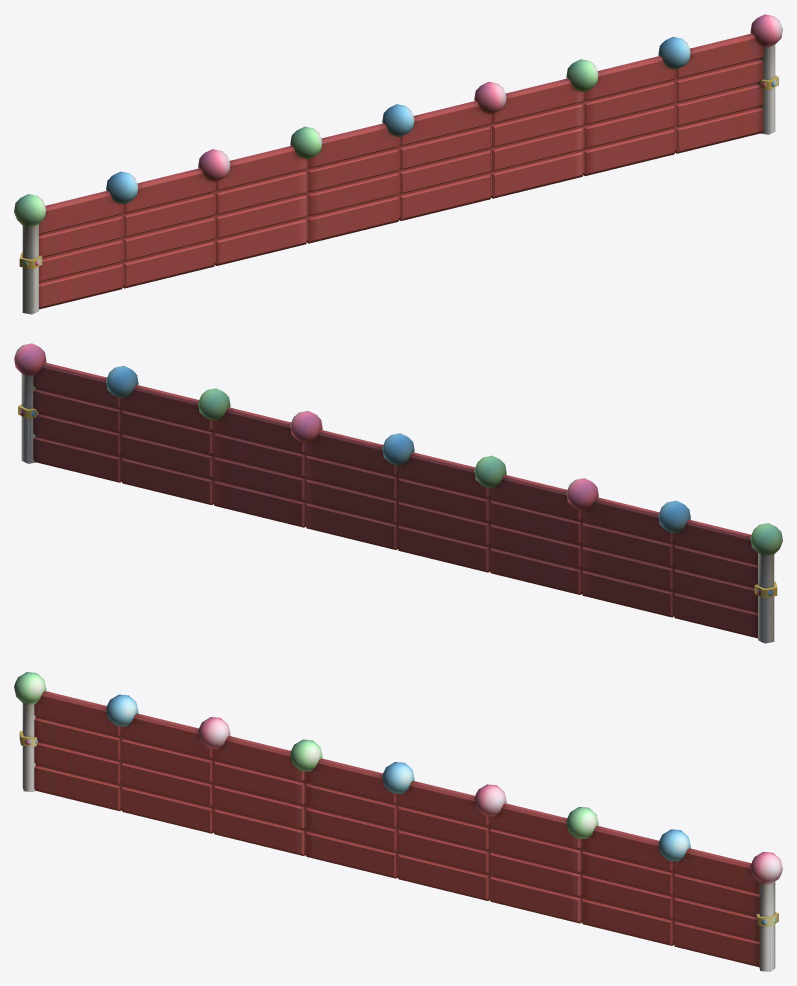
File: candyStructure2.glb
3 renders of one model, top to bottom at view 1: azimuth 30°, elevation 25°; view 2: azimuth 150°, elevation 25°; view 3: azimuth 330°, elevation 25°, orthographic.
Parts seen in each view (by area): view 1: Cube; view 2: Cube; view 3: Cube.
Boxes of the visible parts, <box> form: Cube: <box>14,14,782,314</box>; Cube: <box>14,343,782,643</box>; Cube: <box>14,672,782,971</box>.
Bounding box in the file's own units: 16 × 2.31 × 0.6033.
Materials: 1 (1 with a texture image).
